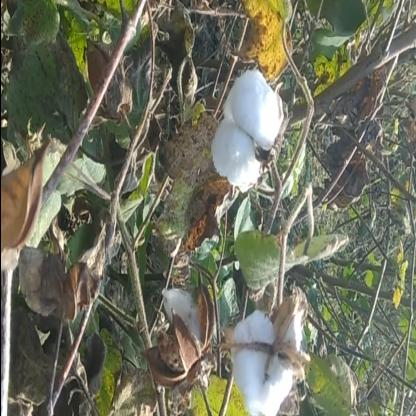cotton_ready: (196, 60, 286, 228), (222, 283, 319, 416)
